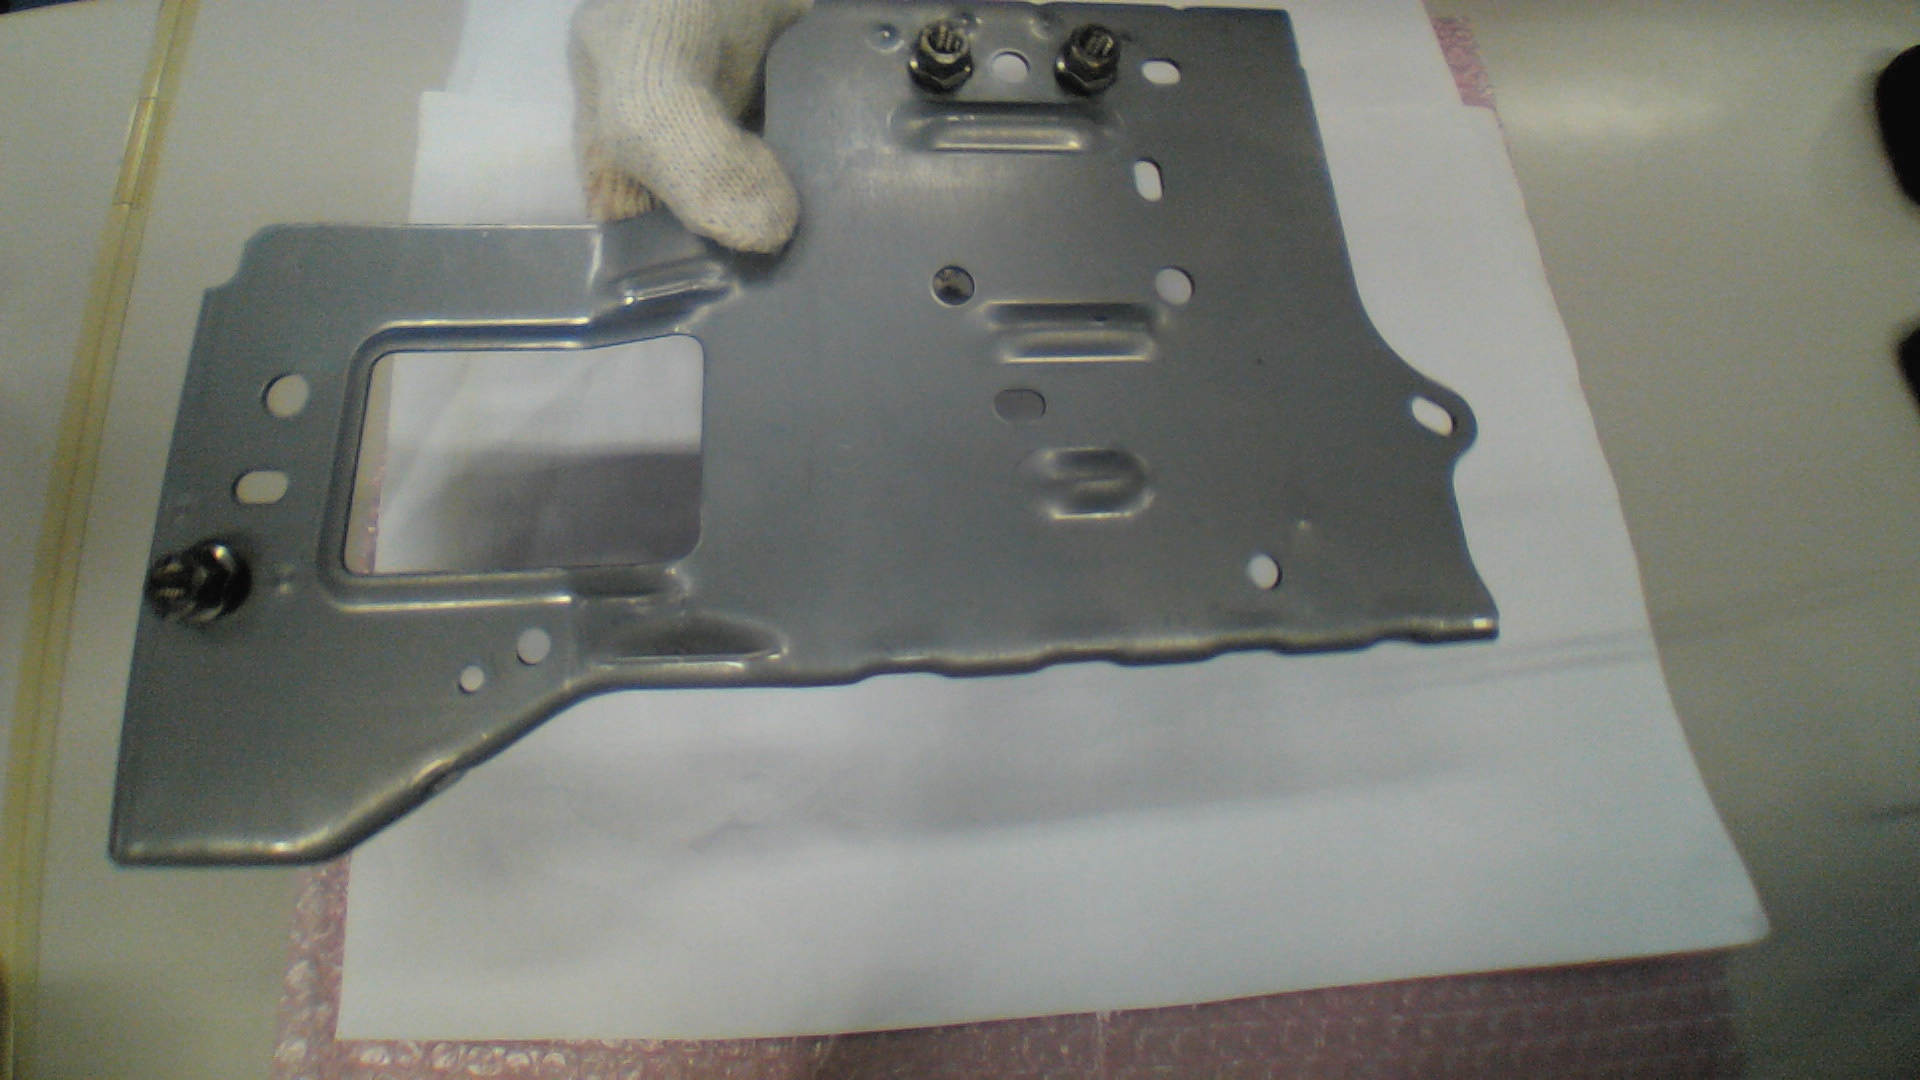dog: (145, 541, 255, 629), (911, 20, 981, 94), (1054, 22, 1120, 96)
